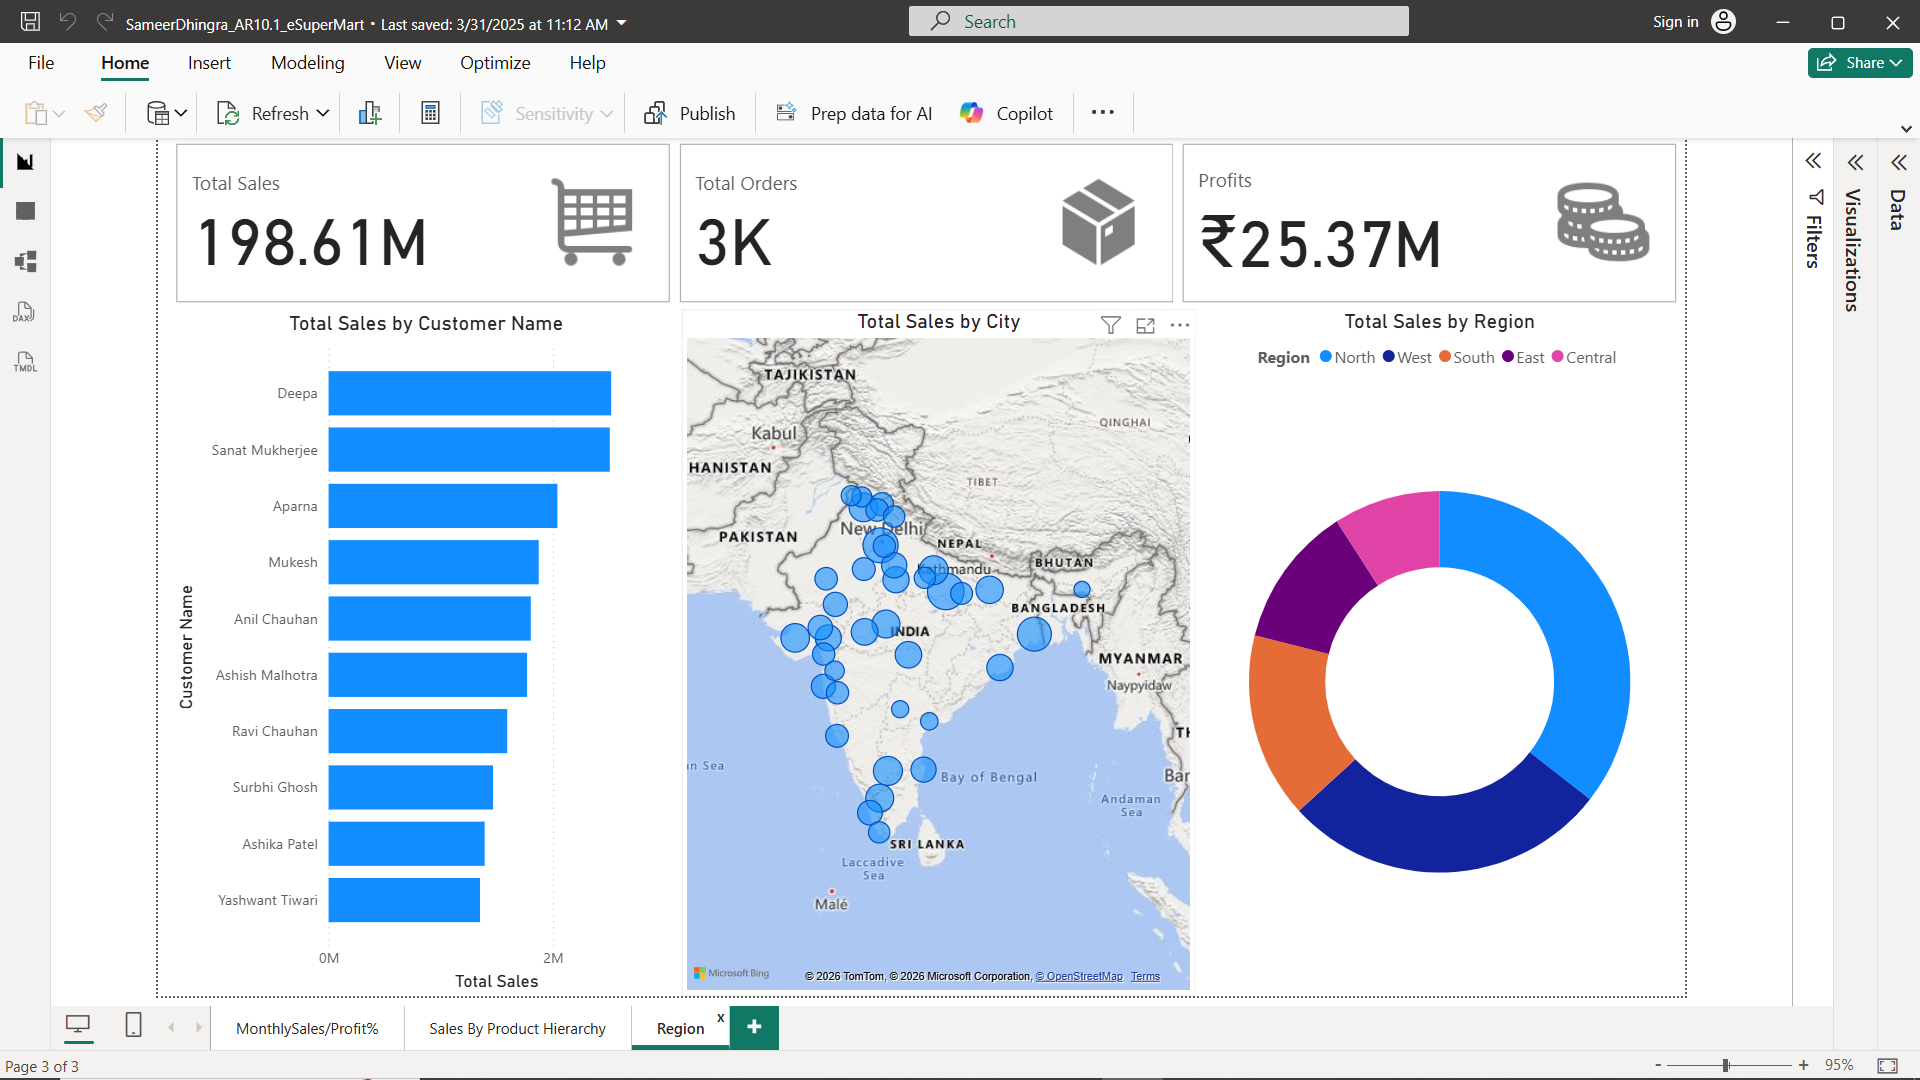

The dashboard page shown, as its layout file describes it:
{"tool":"powerbi","page":{"name":"Region","canvas":[1280,720],"ordinal":2},"visuals":[{"type":"cardVisual","fields":{"Data":["_Measures (2).Total Sales","_Measures (2).Total Orders","_Measures (2).Profits"]},"box":[10,0,1270,143.8],"z":0},{"type":"barChart","fields":{"Y":["_Measures (2).Total Sales"],"Category":["eSuperMart - SalesTable.Customer Name"]},"box":[10.5,144.2,429.1,575.6],"z":1000},{"type":"map","fields":{"Category":["eSuperMart - SalesTable.City"],"Size":["_Measures (2).Total Sales"]},"box":[438.8,143.8,431.2,576.2],"z":2000},{"type":"donutChart","fields":{"Category":["eSuperMart - SalesTable.Region"],"Y":["_Measures (2).Total Sales"]},"box":[870,143.8,410,576.2],"z":3000}]}

Visuals, with their boxes on the page's 1280x720 design canvas (x1, y1, x2, y2). These are canvas units, not pixel positions in the 1920x1080 screenshot, which may show the page scaled, cropped or inside an application window:
cardVisual - _Measures (2).Total Sales x _Measures (2).Total Orders: bbox=(10, 0, 1280, 144)
barChart - _Measures (2).Total Sales x eSuperMart - SalesTable.Customer Name: bbox=(10, 144, 440, 720)
map - eSuperMart - SalesTable.City x _Measures (2).Total Sales: bbox=(439, 144, 870, 720)
donutChart - eSuperMart - SalesTable.Region x _Measures (2).Total Sales: bbox=(870, 144, 1280, 720)
